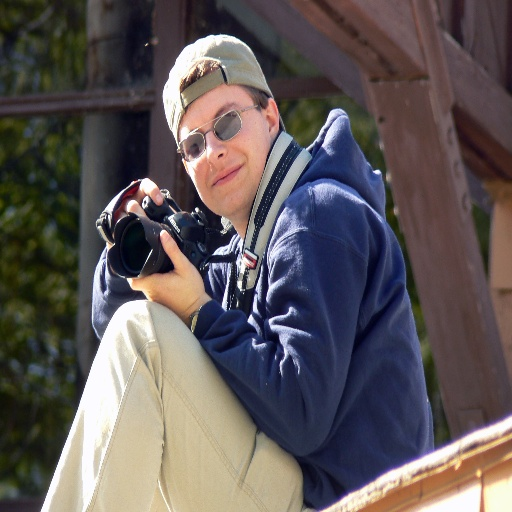hand: (132, 226, 212, 339), (108, 175, 165, 234)
